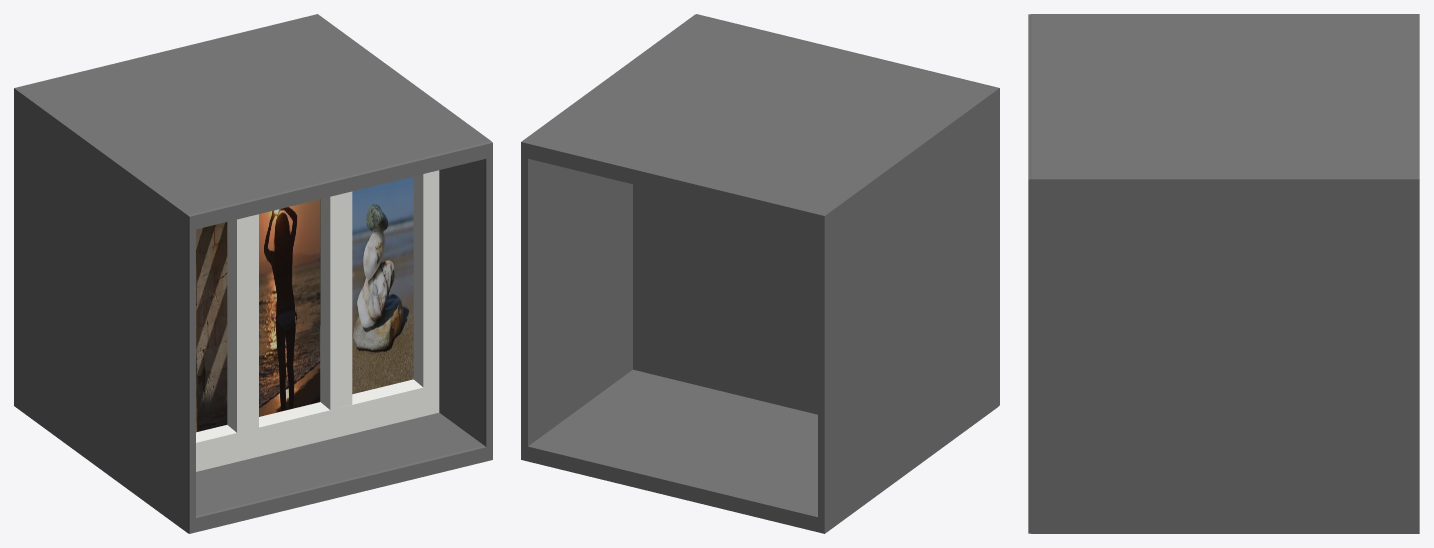
Rendered from sh-contrib-frame3-vertical-summer-photos.glb.
3 renders of one model, left to right at view 1: azimuth 30°, elevation 25°; view 2: azimuth 150°, elevation 25°; view 3: azimuth 270°, elevation 25°, orthographic. The views are drawn at different scales.
Visible parts, largest first — view 1: Frame_Cube.001, Inner_frame_Cube.003, Photo3_Plane.002, Photo2_Plane, Photo1_Plane.001; view 2: Frame_Cube.001; view 3: Frame_Cube.001.
Boxes of the visible parts, x1,y1,x2,y2 form: Frame_Cube.001: [14, 14, 492, 533]; Inner_frame_Cube.003: [196, 170, 439, 471]; Photo3_Plane.002: [352, 176, 413, 394]; Photo2_Plane: [259, 199, 320, 416]; Photo1_Plane.001: [196, 222, 227, 432]; Frame_Cube.001: [521, 14, 999, 533]; Frame_Cube.001: [1028, 14, 1419, 533].
Size of the model in its own units: 1 by 1 by 1.
Materials: 5 (3 with a texture image).
